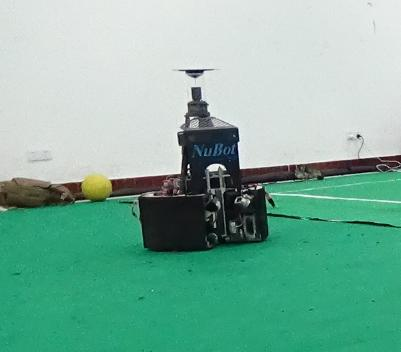robot: (133, 66, 275, 252)
